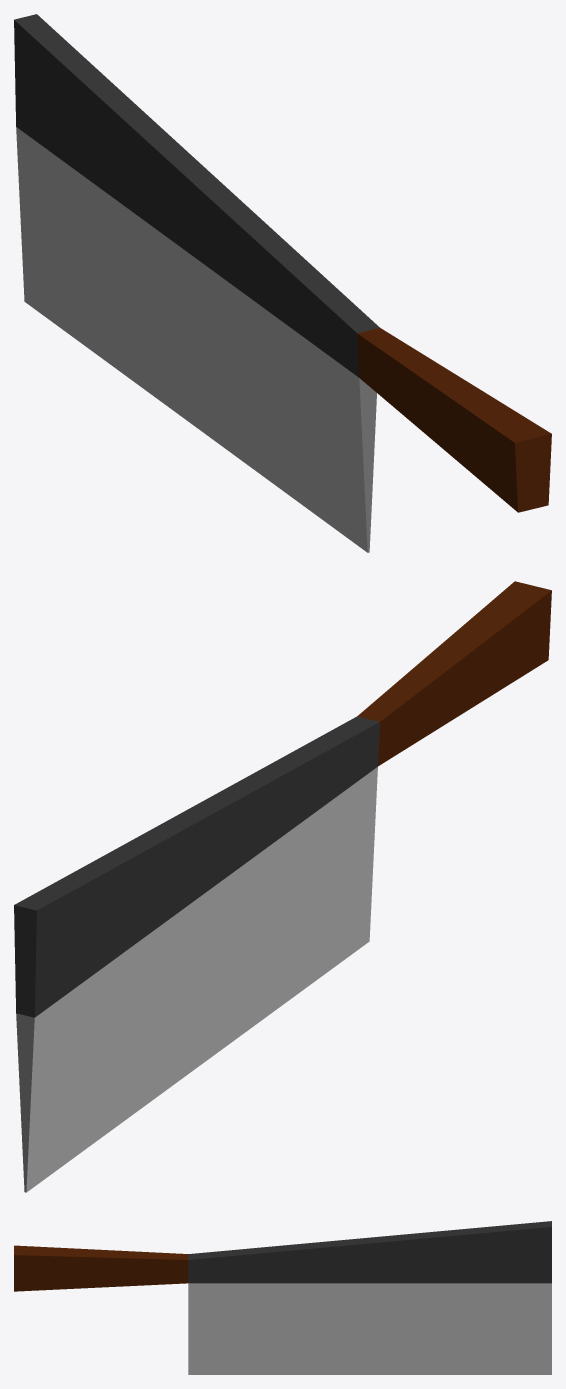
Rendered from Res01_Knife4.fbx.
3 renders of one model, top to bottom at view 1: azimuth 30°, elevation 25°; view 2: azimuth 150°, elevation 25°; view 3: azimuth 270°, elevation 25°, orthographic. The views are drawn at different scales.
Parts seen in each view (by area): view 1: Res01_Knife4; view 2: Res01_Knife4; view 3: Res01_Knife4.
Boxes of the visible parts, <box> form: Res01_Knife4: <box>14,14,551,552</box>; Res01_Knife4: <box>14,581,551,1192</box>; Res01_Knife4: <box>14,1221,551,1374</box>.
Bounding box in the file's own units: 3.32 × 24.34 × 78.73.
